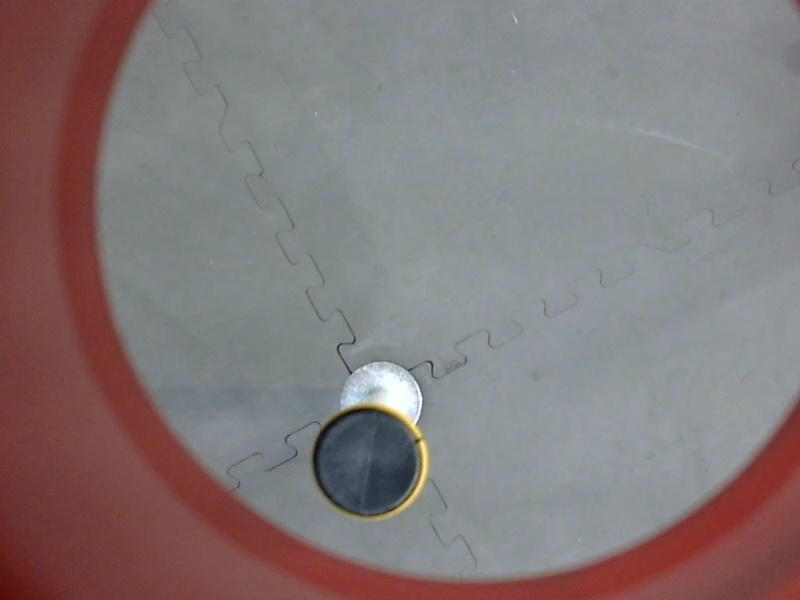tip: (305, 397, 435, 529)
